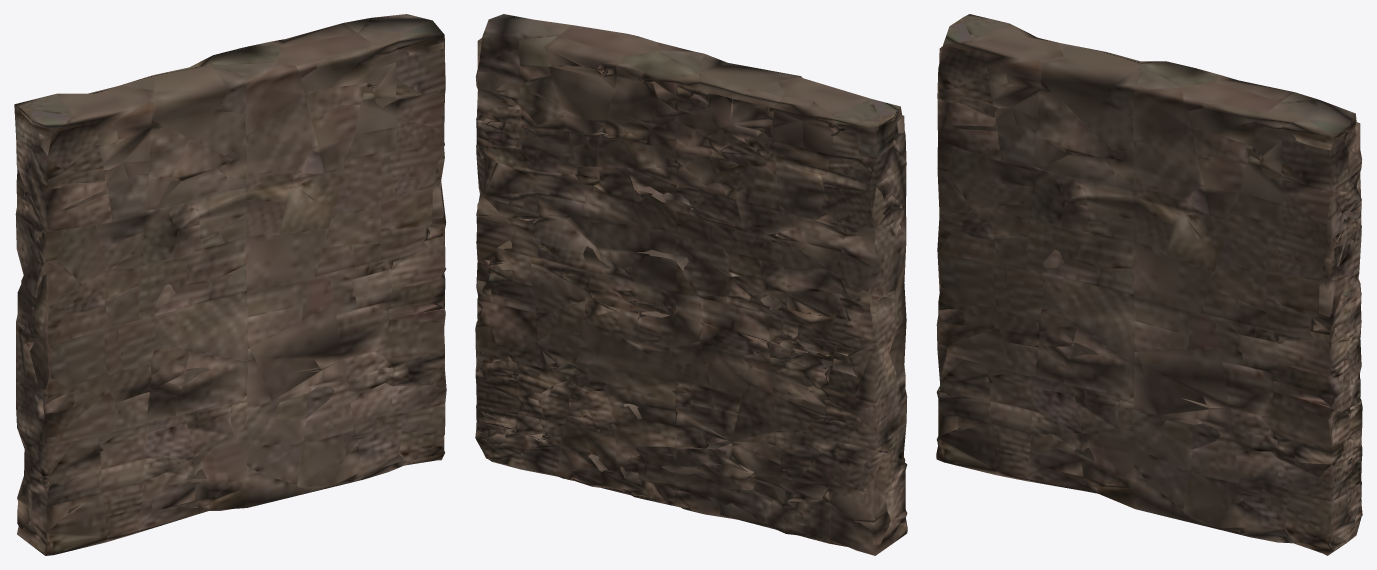
The model's file is brick_wall_a_lod.glb.
The picture shows the model from 3 angles, left to right: view 1: azimuth 30°, elevation 25°; view 2: azimuth 150°, elevation 25°; view 3: azimuth 330°, elevation 25°; orthographic projection.
Parts seen in each view (by area): view 1: mesh_node; view 2: mesh_node; view 3: mesh_node.
Part boxes in pixels (x1=…): mesh_node: x1=14, y1=14, x2=446, y2=555; mesh_node: x1=475, y1=14, x2=907, y2=555; mesh_node: x1=936, y1=14, x2=1362, y2=555.
Bounding box in the file's own units: 14.71 × 15 × 2.2.
1 material, 1 textured.
